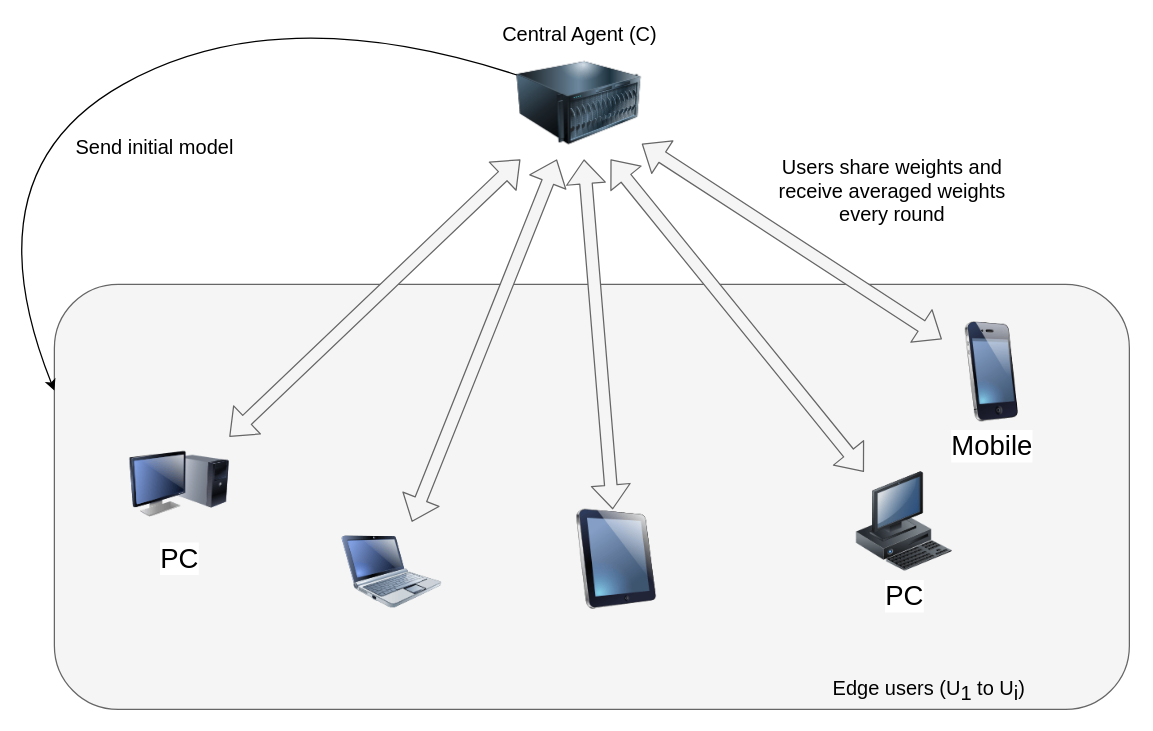
The diagram is 1153 pixels wide and 731 high, and some of its shapes have lost their labels. The shapes that lost their labels are listed below. From the top down, each one's centre as x and y in pixels, then its label:
[391,571]: Laptop
[616,559]: Tablet
